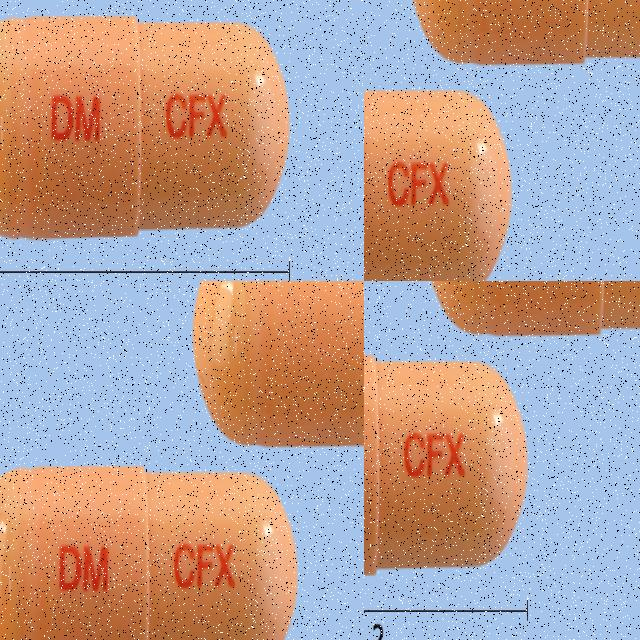Fixima: (364, 353, 528, 575)
Lebofacin: (106, 46, 278, 281)
Levocacin: (0, 281, 211, 640), (246, 281, 364, 640)
Qsymia Cap-15mg: (364, 104, 520, 281), (402, 0, 640, 59)
